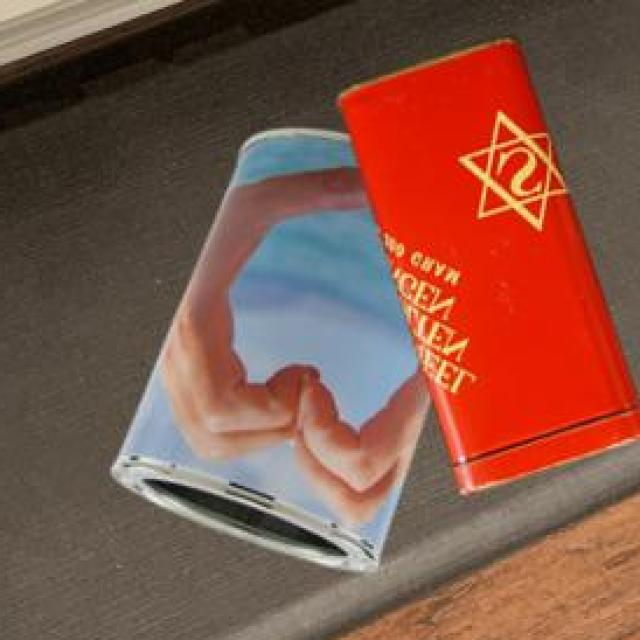logam: (116, 125, 436, 569), (340, 34, 640, 489)
